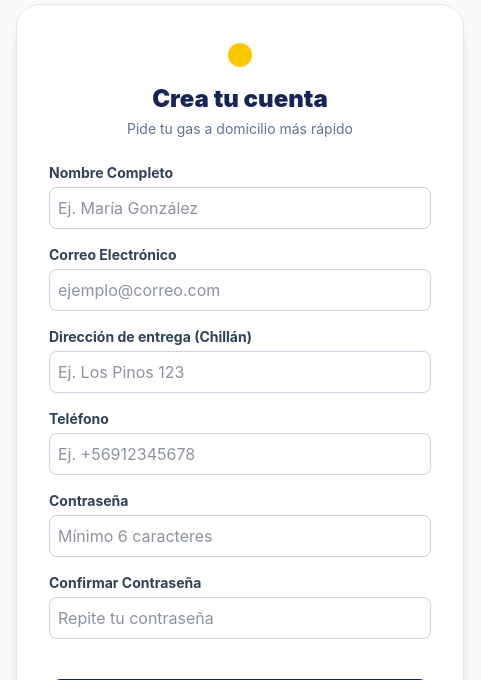
Registro › rechaza contraseñas de menos de 6 caracteres
Type "Pedro Soto" into the field labelled "Nombre Completo" at (240, 208), box [49,187,431,229]
Type "pedro@example.com" into the field labelled "Correo Electrónico" at (240, 290), box [49,269,431,311]
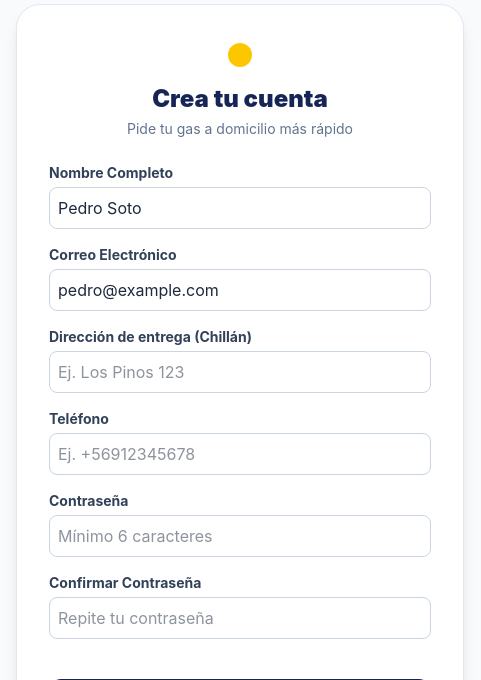
Type "Los Robles 45" into the field labelled "Dirección de entrega (Chillán)" at (240, 372), box [49,351,431,393]
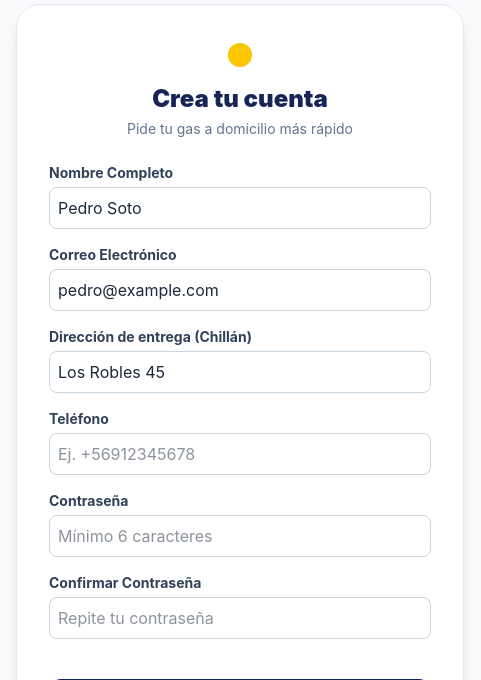
Type "+56911112222" into the field labelled "Teléfono" at (240, 454), box [49,433,431,475]
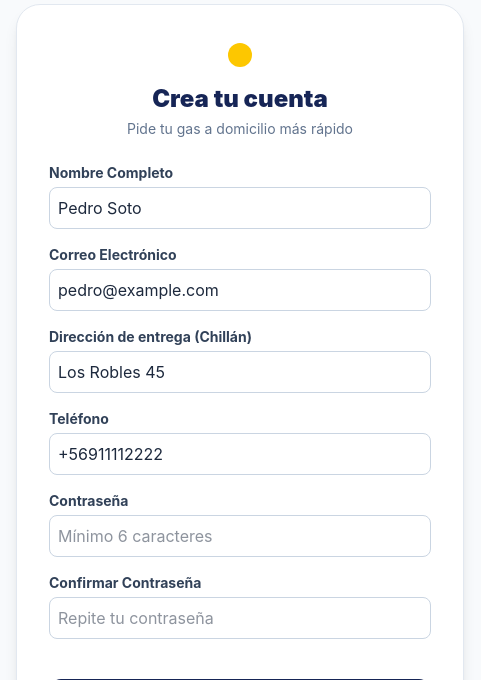
Type "123" into the password field labelled "Contraseña" at (240, 536), box [49,515,431,557]
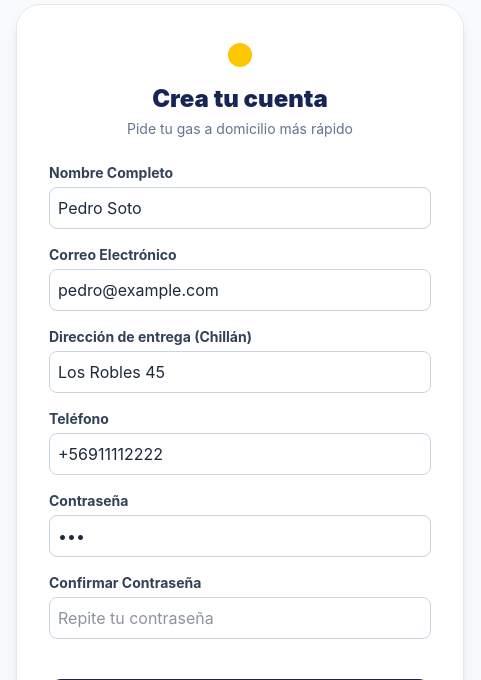
Type "123" into the password field labelled "Confirmar Contraseña" at (240, 618), box [49,597,431,639]
(page scrolled)
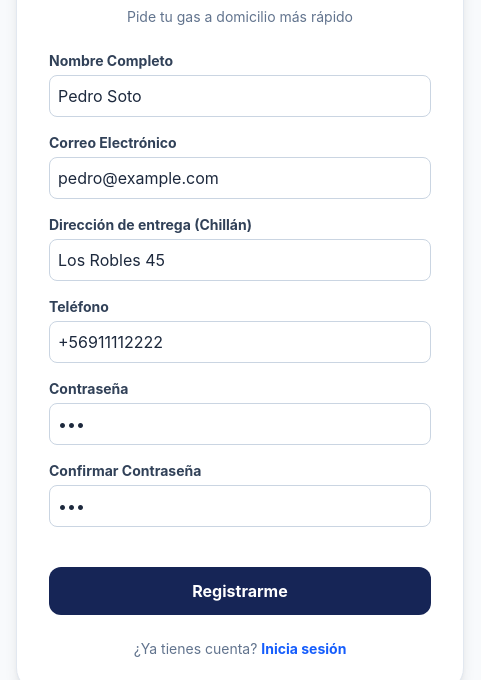
Click the button "Registrarme" at (240, 591), box [49,567,431,615]
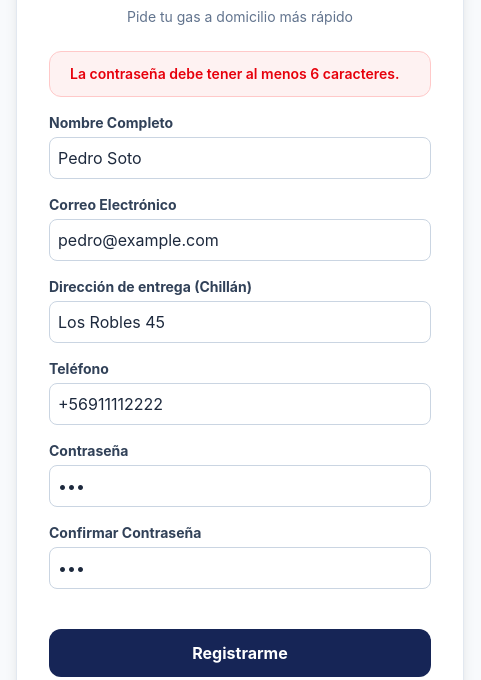
Now the text "La contraseña debe tener al menos 6 caracteres." is shown, box [70,64,399,84]
